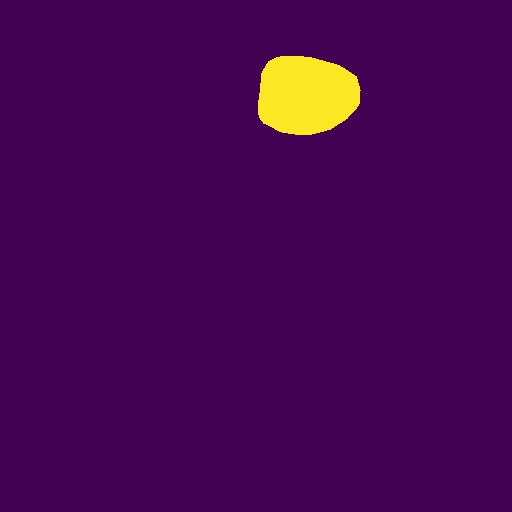Menigiomia_tumour: (258, 56, 361, 135)
